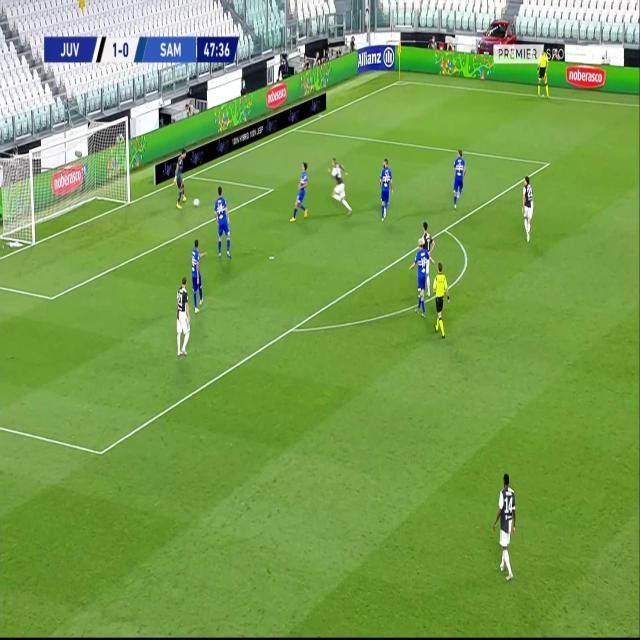ball: (192, 197, 200, 207)
player: (493, 468, 518, 580), (410, 238, 430, 316), (327, 156, 352, 218), (174, 273, 192, 358), (214, 184, 233, 261), (432, 260, 449, 338), (290, 161, 310, 224), (189, 236, 206, 309), (377, 156, 394, 221), (451, 147, 467, 209), (520, 172, 534, 241), (174, 147, 187, 210), (535, 46, 550, 98), (422, 220, 434, 264)
